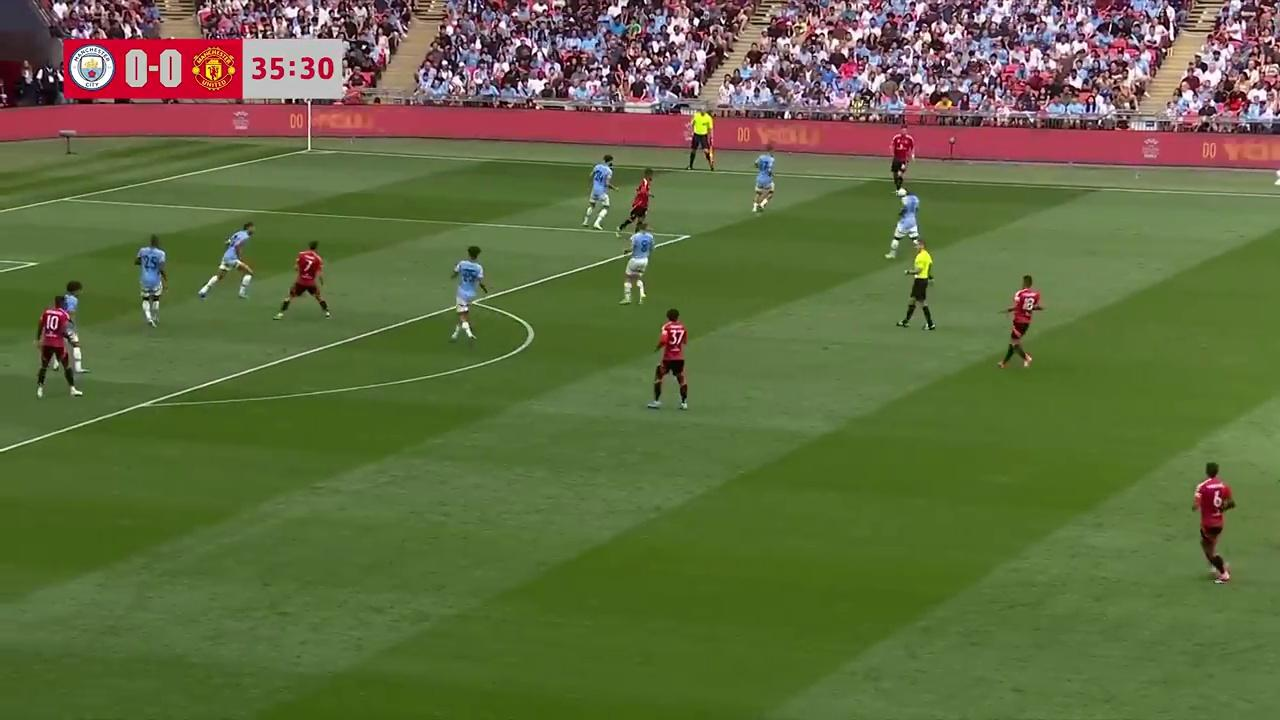ball: (236, 283, 247, 299)
player: (1192, 462, 1235, 584), (34, 299, 82, 398), (996, 274, 1044, 370), (275, 240, 331, 319), (647, 308, 689, 412), (205, 221, 255, 292), (133, 235, 166, 328), (619, 219, 652, 304), (449, 250, 479, 342), (450, 247, 489, 317), (884, 184, 920, 259), (616, 170, 653, 232), (55, 281, 83, 359), (582, 157, 612, 229), (752, 149, 776, 213), (887, 130, 911, 191)
referee: (896, 237, 936, 331), (688, 118, 718, 173)
